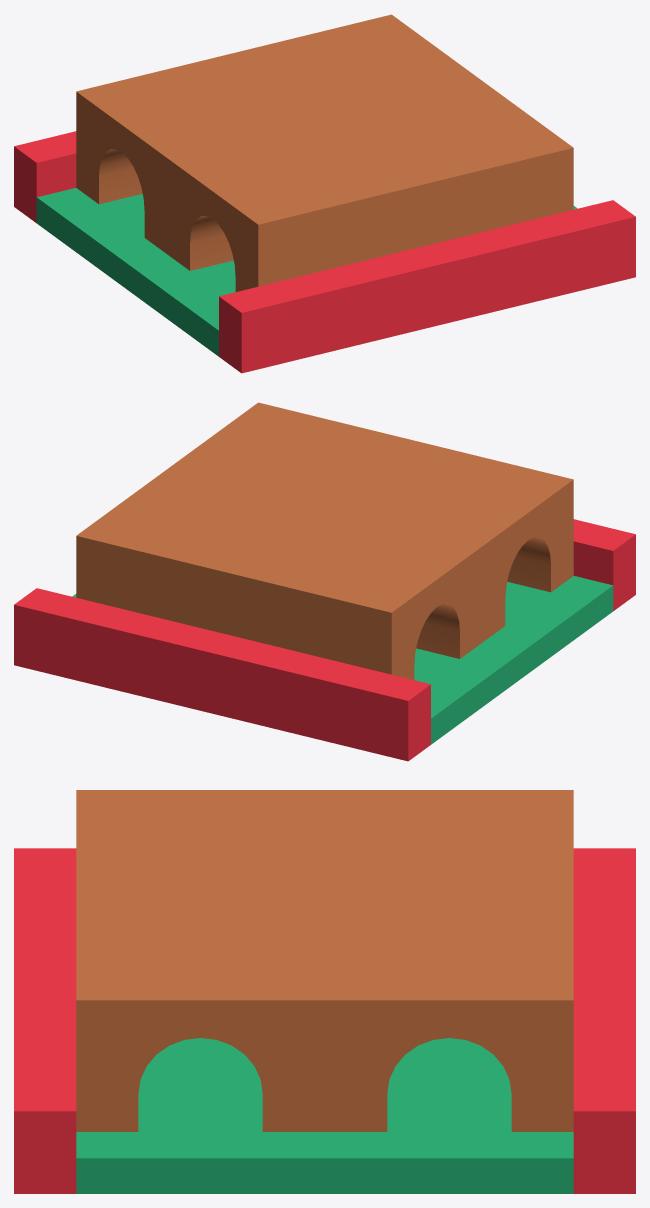
Rendered from tunnelDouble.obj.
The picture shows the model from 3 angles, top to bottom: view 1: azimuth 30°, elevation 25°; view 2: azimuth 150°, elevation 25°; view 3: azimuth 270°, elevation 25°; orthographic projection. The views are drawn at different scales.
Visible parts, largest first — view 1: tunnelDouble; view 2: tunnelDouble; view 3: tunnelDouble.
Boxes of the visible parts, x1=… form: tunnelDouble: x1=14, y1=14, x2=635, y2=373; tunnelDouble: x1=14, y1=402, x2=635, y2=761; tunnelDouble: x1=14, y1=790, x2=635, y2=1193.
Bounding box in the file's own units: 0.9999 × 0.2966 × 0.9999.
